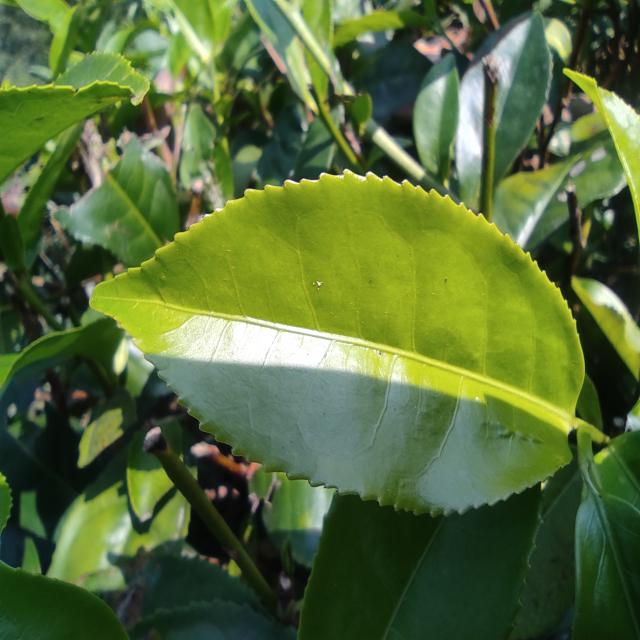Category C(4-7 days): (74, 147, 587, 528)
